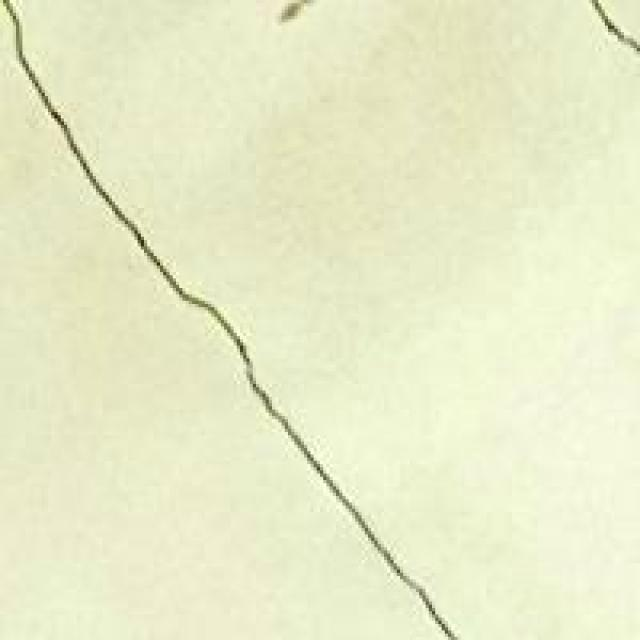crack: (0, 0, 504, 640), (576, 0, 640, 110)
